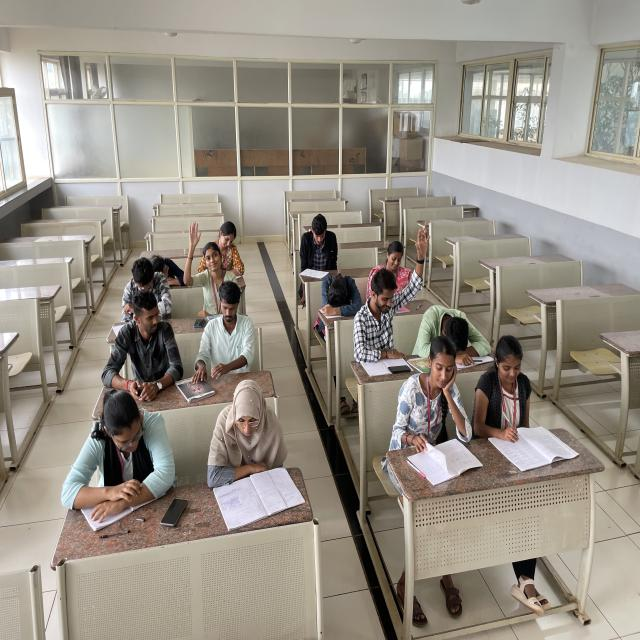Hand Rising: (355, 232, 436, 356), (178, 221, 234, 312)
Reading: (206, 382, 306, 516), (397, 334, 487, 471), (284, 212, 348, 284), (213, 218, 255, 279)
Sleeping: (409, 302, 497, 370), (312, 267, 363, 316)
Using Phone: (104, 294, 188, 402)
Writing: (478, 339, 562, 462)
